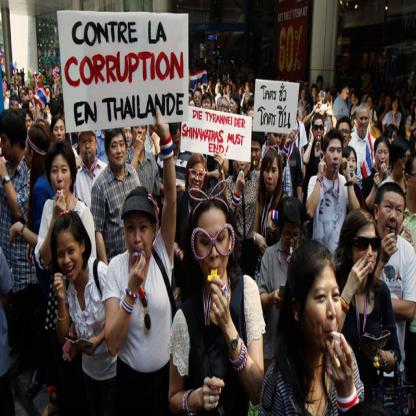face: (301, 264, 343, 351), (196, 209, 230, 281), (380, 191, 405, 244), (126, 212, 152, 262), (352, 226, 379, 274), (57, 231, 81, 282), (51, 154, 71, 201), (282, 219, 301, 255), (326, 139, 343, 172), (110, 134, 127, 166), (265, 156, 279, 192), (190, 163, 206, 192), (319, 194, 335, 222), (81, 134, 96, 162), (398, 148, 412, 177), (1, 129, 14, 160), (377, 141, 391, 169), (26, 137, 38, 168), (345, 151, 357, 180), (53, 120, 66, 146), (236, 154, 249, 178), (168, 133, 181, 156), (134, 121, 146, 145), (339, 123, 350, 148), (250, 142, 261, 167), (123, 126, 134, 149), (359, 110, 369, 131), (271, 131, 283, 148), (388, 132, 398, 151), (23, 114, 33, 133), (315, 121, 324, 141), (406, 120, 413, 138), (221, 102, 229, 116), (203, 98, 211, 112), (283, 130, 291, 144), (28, 103, 35, 118), (195, 93, 202, 107), (249, 115, 256, 129), (231, 99, 237, 114), (320, 99, 326, 113), (10, 102, 17, 114), (344, 87, 350, 100), (211, 99, 216, 111), (190, 102, 196, 112), (304, 81, 309, 93), (394, 99, 399, 111), (187, 95, 192, 106), (381, 94, 386, 105), (386, 98, 391, 109), (313, 88, 318, 98), (368, 98, 373, 108), (29, 91, 34, 101), (406, 95, 411, 104), (46, 89, 51, 98), (396, 92, 401, 100), (412, 102, 416, 112), (6, 93, 11, 101), (302, 91, 306, 100), (327, 91, 331, 100), (46, 105, 50, 114), (22, 91, 26, 100), (402, 91, 407, 98), (300, 80, 304, 88), (319, 81, 323, 89), (352, 95, 356, 103), (23, 96, 27, 104), (4, 77, 8, 85), (12, 77, 16, 85), (333, 84, 337, 91), (11, 85, 15, 92), (246, 83, 249, 92), (227, 85, 230, 93), (234, 83, 237, 91), (375, 101, 378, 109), (370, 86, 373, 94), (20, 87, 23, 95), (199, 83, 202, 90), (240, 87, 243, 94), (252, 85, 255, 92), (218, 80, 221, 86), (224, 88, 227, 94), (210, 81, 213, 86), (221, 86, 224, 91), (238, 80, 241, 84), (243, 84, 245, 90), (219, 88, 221, 94), (229, 65, 231, 70), (235, 64, 237, 69), (226, 72, 228, 76), (214, 73, 215, 77)
